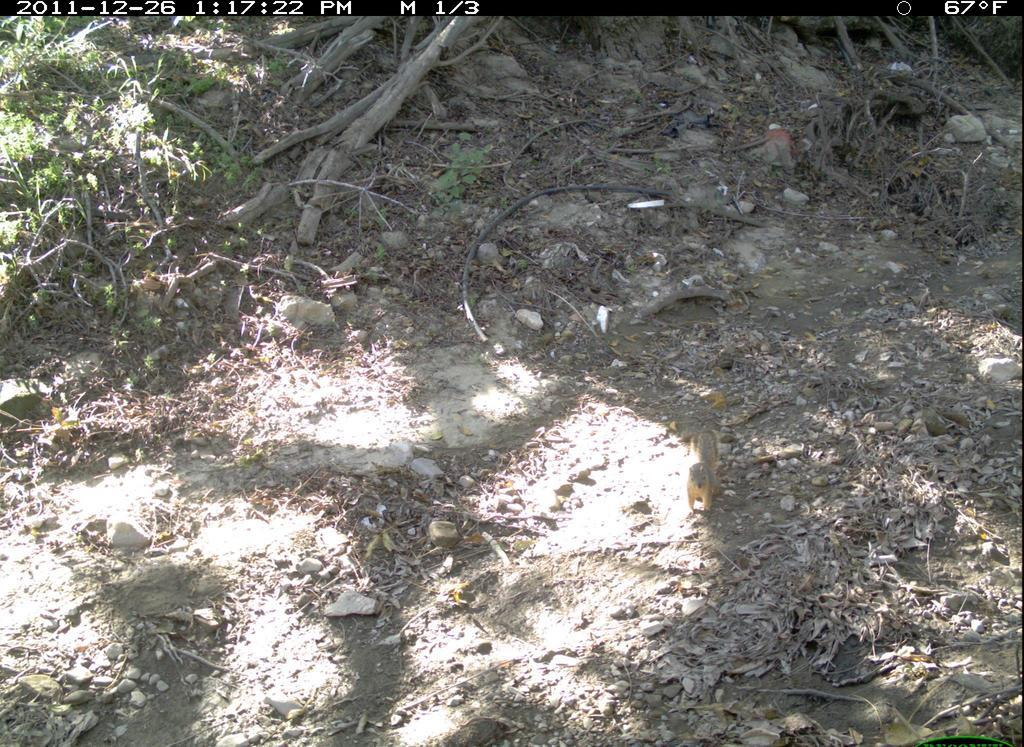squirrel: (684, 425, 730, 522)
